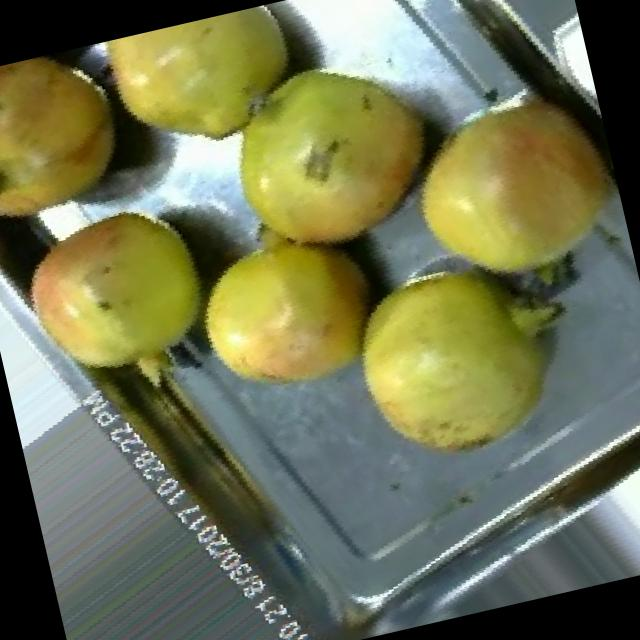fruit: (309, 212, 619, 505), (178, 12, 477, 298), (365, 47, 640, 339), (156, 182, 414, 428), (0, 166, 241, 411), (71, 0, 330, 187), (0, 36, 167, 254)
